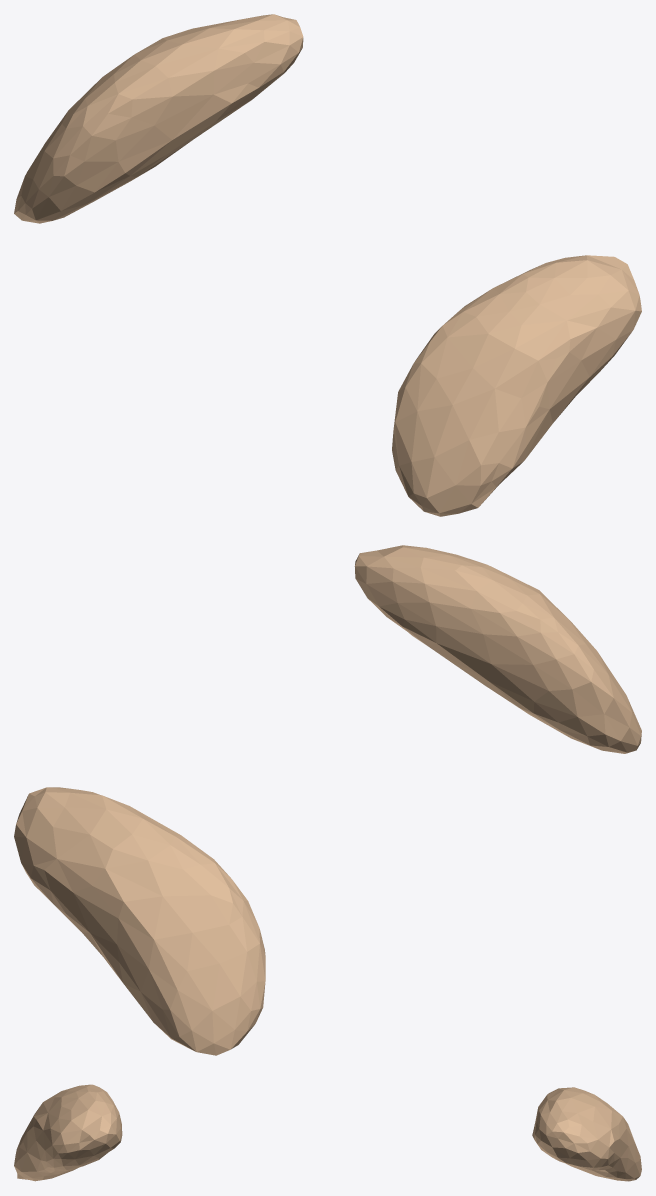
3 renders of one model, top to bottom at view 1: azimuth 30°, elevation 25°; view 2: azimuth 150°, elevation 25°; view 3: azimuth 270°, elevation 25°, orthographic. The views are drawn at different scales.
Parts seen in each view (by area): view 1: 105.obj; view 2: 105.obj; view 3: 105.obj.
Boxes of the visible parts, <box> form: 105.obj: <box>14,14,641,516</box>; 105.obj: <box>14,545,641,1055</box>; 105.obj: <box>14,1084,641,1181</box>.
Bounding box in the file's own units: 853 × 588 × 2538.
